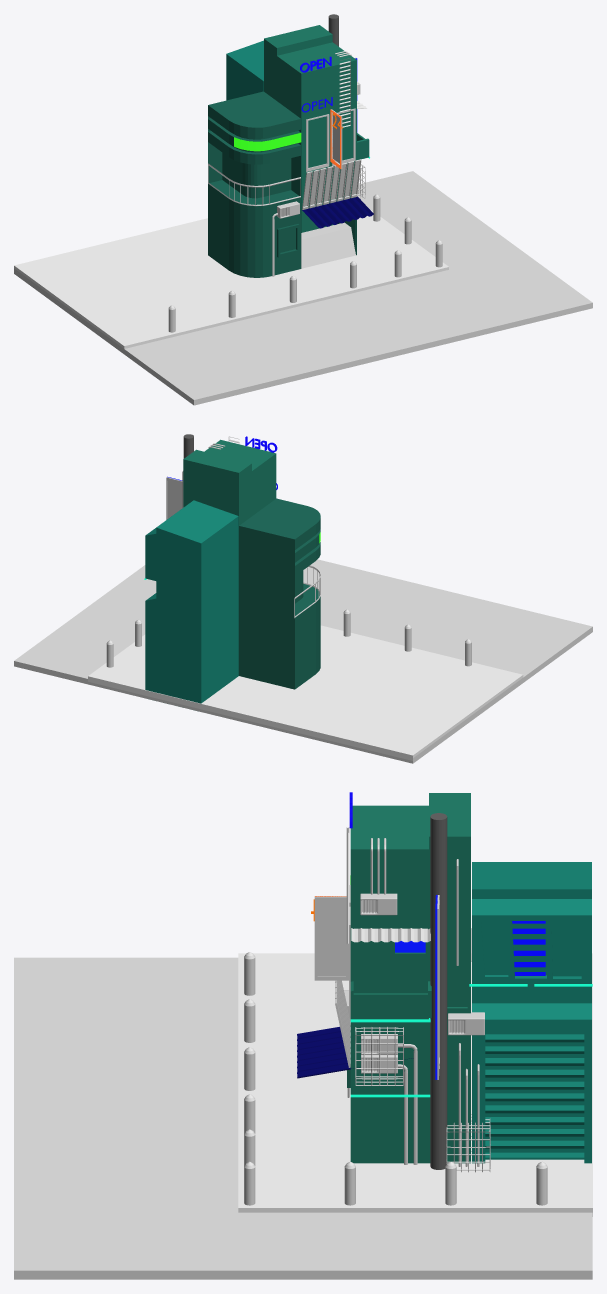
Rendered from CYBER.glb.
3 views of the same model, one above another, from view 1: azimuth 30°, elevation 25°; view 2: azimuth 150°, elevation 25°; view 3: azimuth 270°, elevation 25° (orthographic). The views are drawn at different scales.
Parts seen in each view (by area): view 1: Cube, Cube.004, Cube.002, Cube.001, Cube.013, Cube.003, Plane, Cube.034, Cube.014, Plane.011; view 2: Cube, Cube.004, Cube.003, Cube.002, Cube.001, Plane.012; view 3: Cube, Cube.003, Cube.004, Cube.001, Cylinder.038, Plane.011, Plane, Cube.011, Plane.013, Cube.010, Cube.012, Cube.015 (+2 smaller).
Part boxes in pixels (bbox=[...]): Cube: bbox=[14, 171, 592, 405]; Cube.004: bbox=[14, 208, 448, 348]; Cube.002: bbox=[208, 91, 300, 277]; Cube.001: bbox=[264, 25, 369, 268]; Cube.013: bbox=[301, 222, 355, 268]; Cube.003: bbox=[226, 40, 263, 100]; Plane: bbox=[302, 196, 373, 228]; Cube.034: bbox=[234, 133, 301, 151]; Cube.014: bbox=[208, 163, 300, 206]; Plane.011: bbox=[331, 109, 342, 168]; Cube: bbox=[14, 559, 592, 763]; Cube.004: bbox=[88, 625, 523, 760]; Cube.003: bbox=[145, 500, 238, 703]; Cube.002: bbox=[239, 498, 320, 689]; Cube.001: bbox=[183, 439, 276, 675]; Plane.012: bbox=[166, 477, 182, 519]; Cube: bbox=[14, 957, 592, 1279]; Cube.003: bbox=[472, 862, 591, 1163]; Cube.004: bbox=[238, 953, 592, 1216]; Cube.001: bbox=[350, 793, 470, 1163]; Cylinder.038: bbox=[430, 813, 447, 1169]; Plane.011: bbox=[314, 896, 348, 980]; Plane: bbox=[297, 1026, 413, 1078]; Cube.011: bbox=[355, 1027, 403, 1085]; Plane.013: bbox=[351, 928, 430, 942]; Cube.010: bbox=[446, 1113, 490, 1172]; Cube.012: bbox=[448, 1012, 484, 1035]; Cube.015: bbox=[360, 893, 397, 915].
Size of the model in its own units: 12.32 by 6.68 by 9.63.
